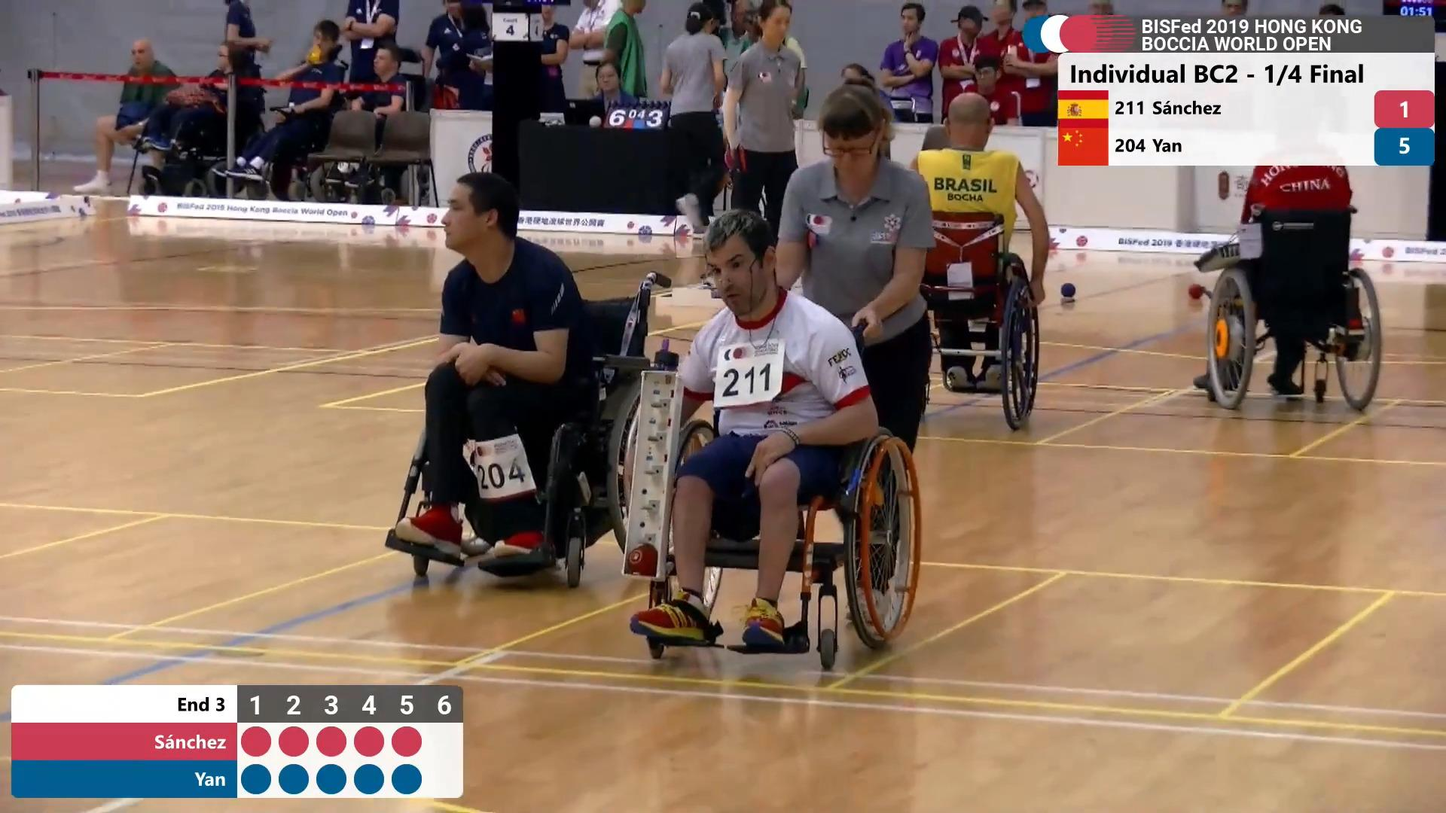blue_ball: (1057, 281, 1082, 303)
red_ball: (622, 538, 665, 580), (1183, 282, 1207, 302)
